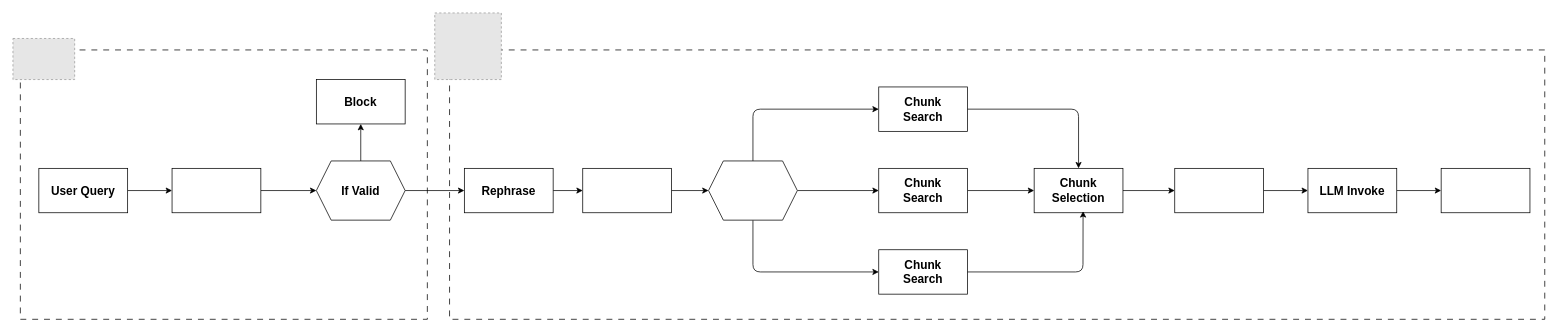
Some shapes in this 1558 by 332 pixel diagram are drawn without their labels. Grey dashed boxes stand in for pictures. The shapes that lost their labels are listed below. From the top down, each one's centre as x and y in pixels, then its label:
[216,190]: Intent Detection
[627,190]: Document Retrieve
[752,190]: For each document
[1219,190]: Chat Assistant Prompt
[1485,190]: Answer
